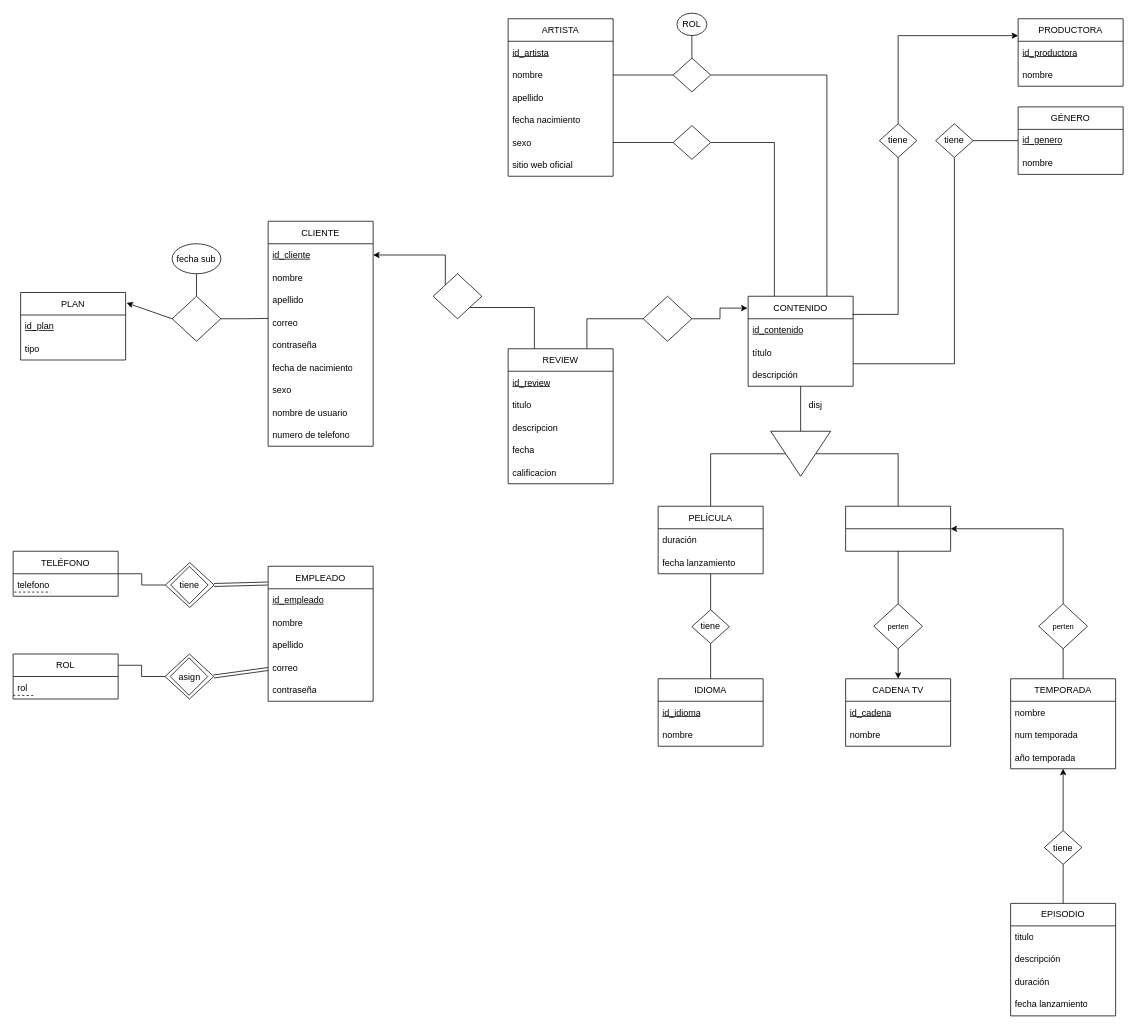
Image size: 1136x1029. Some labels were removed from this diagram. Each missing label, with the centre of its shape:
actua: pixel 691 74
dirig: pixel 691 142
ESC: pixel 800 453
escribe: pixel 457 296
evalua: pixel 667 318
PROGRAMA TV: pixel 898 528
subscripo: pixel 196 318
